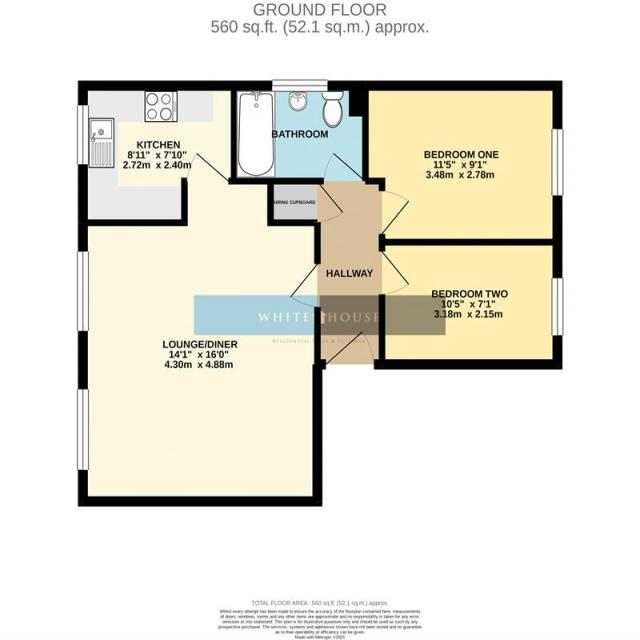DOOR: (325, 329, 376, 370), (184, 150, 230, 186), (288, 263, 322, 308), (378, 250, 411, 296), (378, 190, 411, 235), (322, 151, 365, 185), (314, 184, 345, 224)
ROOM: (76, 151, 322, 507), (348, 80, 563, 246), (377, 238, 563, 370), (77, 80, 238, 226)
WINDOW: (76, 251, 89, 332), (77, 388, 89, 471), (550, 128, 564, 197), (271, 79, 329, 93), (550, 278, 564, 336), (77, 105, 89, 166)
